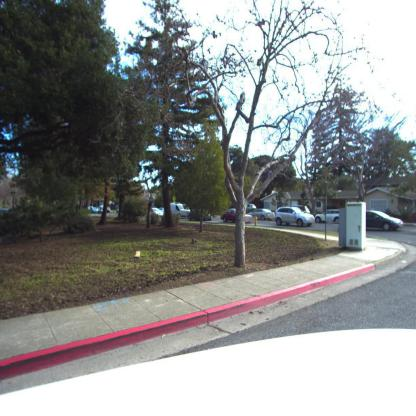car: (274, 205, 316, 226), (367, 210, 404, 232), (153, 202, 191, 220), (223, 206, 257, 223), (314, 209, 339, 223), (248, 210, 276, 221)
